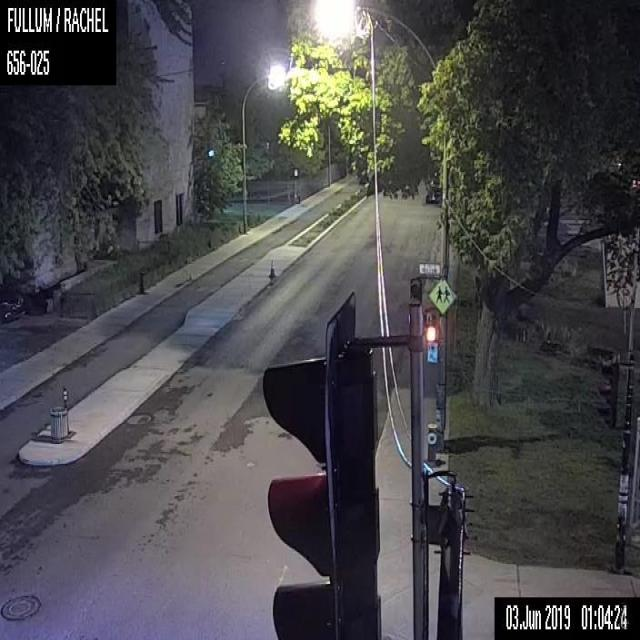construction: (268, 258, 276, 278)
vehicle: (425, 188, 440, 202)
